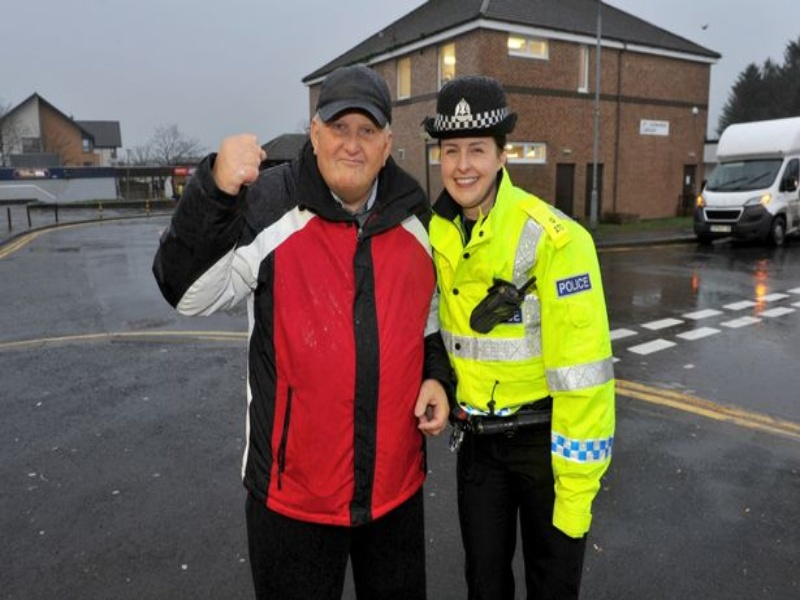person: (215, 58, 435, 597), (418, 69, 629, 600)
